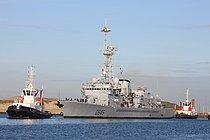MIL_Ship: (56, 44, 175, 119)
